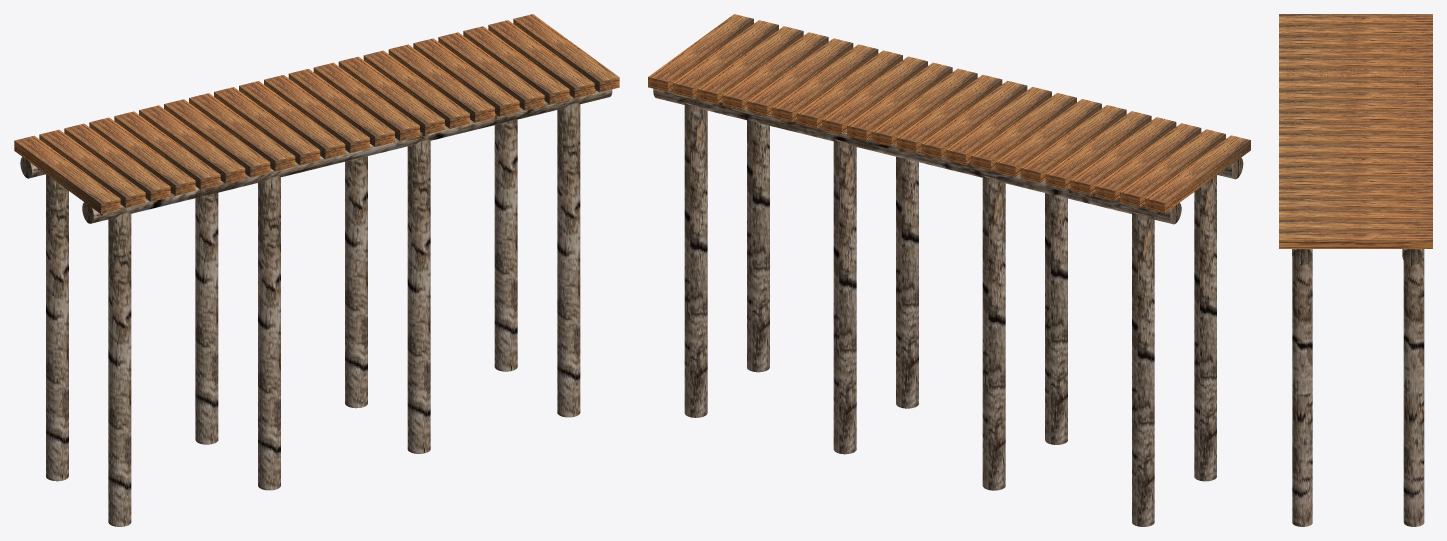
The model's file is dock 1.fbx.
3 renders of one model, left to right at view 1: azimuth 30°, elevation 25°; view 2: azimuth 150°, elevation 25°; view 3: azimuth 270°, elevation 25°, orthographic. The views are drawn at different scales.
Parts seen in each view (by area): view 1: vertical support piece.001; view 2: vertical support piece.001; view 3: vertical support piece.001.
Part boxes in pixels (box(x1,y1,x2,y2)): vertical support piece.001: box(14, 14, 619, 526); vertical support piece.001: box(648, 14, 1250, 526); vertical support piece.001: box(1279, 14, 1432, 526).
Bounding box in the file's own units: 1041 × 644 × 300.
